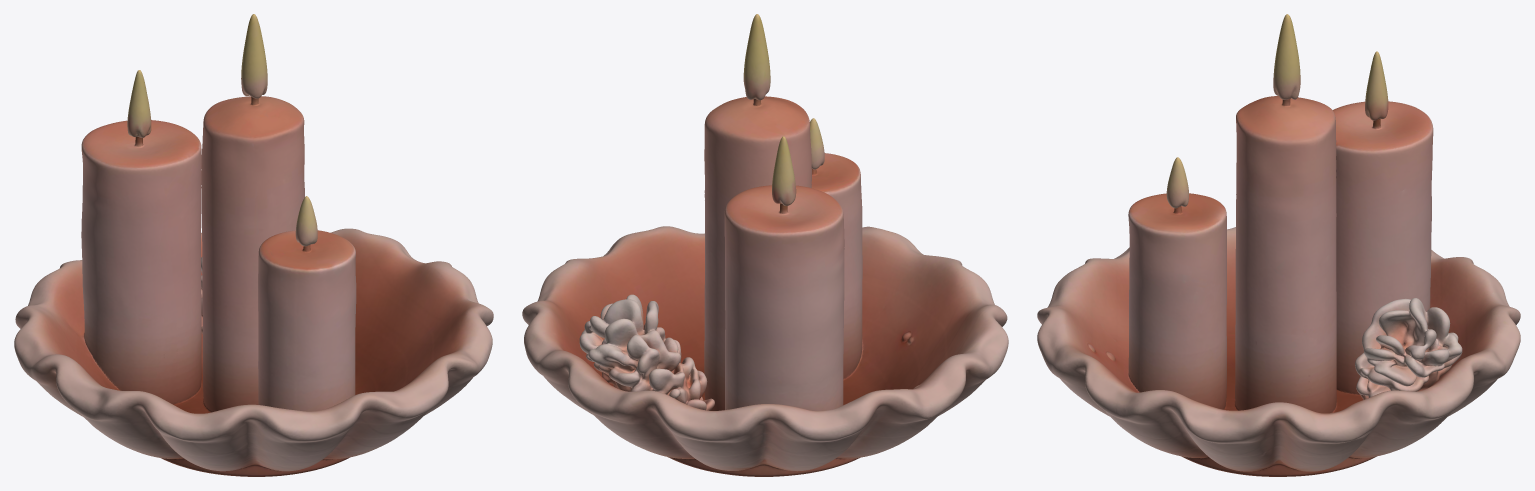
The model's file is detailed_realistic_model_floatingcandles_09.glb.
3 renders of one model, left to right at view 1: azimuth 30°, elevation 25°; view 2: azimuth 150°, elevation 25°; view 3: azimuth 270°, elevation 25°, orthographic.
Visible parts, largest first — view 1: tripo_node_31e01851-d1c5-41f8-bd2e-daa2f4e07bc5; view 2: tripo_node_31e01851-d1c5-41f8-bd2e-daa2f4e07bc5; view 3: tripo_node_31e01851-d1c5-41f8-bd2e-daa2f4e07bc5.
Part boxes in pixels (bbox=[...]): tripo_node_31e01851-d1c5-41f8-bd2e-daa2f4e07bc5: bbox=[14, 14, 493, 476]; tripo_node_31e01851-d1c5-41f8-bd2e-daa2f4e07bc5: bbox=[522, 14, 1008, 476]; tripo_node_31e01851-d1c5-41f8-bd2e-daa2f4e07bc5: bbox=[1037, 14, 1520, 476].
Bounding box in the file's own units: 1 × 0.959 × 0.9986.
1 material, 1 textured.
